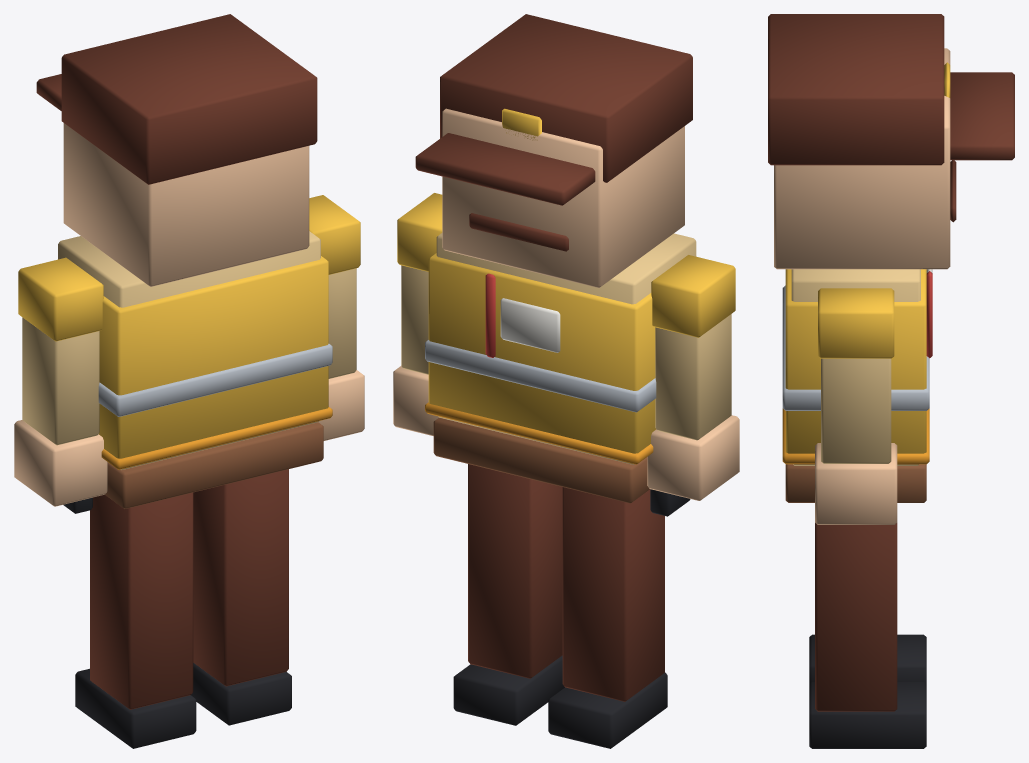
The model's file is H_Guard.fbx.
3 views of the same model, side by side, from view 1: azimuth 30°, elevation 25°; view 2: azimuth 150°, elevation 25°; view 3: azimuth 270°, elevation 25° (orthographic). The views are drawn at different scales.
Parts seen in each view (by area): view 1: H_Guard; view 2: H_Guard; view 3: H_Guard.
Boxes of the visible parts, bbox=[...] form: H_Guard: bbox=[14, 14, 364, 748]; H_Guard: bbox=[393, 14, 739, 748]; H_Guard: bbox=[768, 14, 1014, 748].
Bounding box in the file's own units: 0.62 × 1.23 × 0.42.
Materials: 1 (1 with a texture image).
